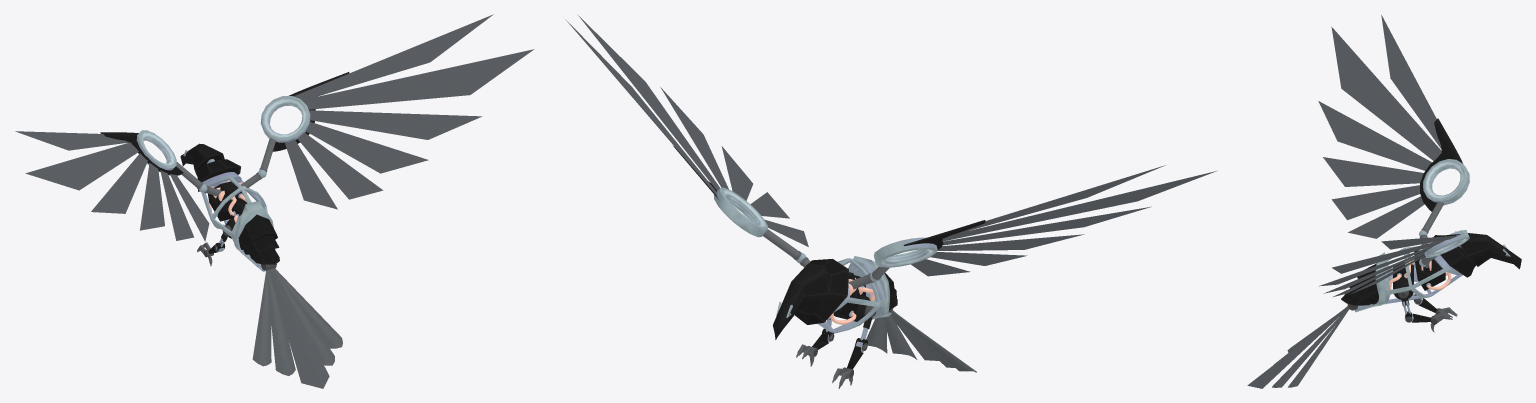
Rendered from eagle.glb.
3 views of the same model, side by side, from view 1: azimuth 30°, elevation 25°; view 2: azimuth 150°, elevation 25°; view 3: azimuth 270°, elevation 25° (orthographic). The views are drawn at different scales.
Parts seen in each view (by area): view 1: Object_2; view 2: Object_2; view 3: Object_2.
Boxes of the visible parts, box(x1,y1,x2,y2) form: Object_2: box(15, 14, 534, 388); Object_2: box(565, 14, 1217, 388); Object_2: box(1247, 15, 1521, 388).
Bounding box in the file's own units: 38.72 × 19.3 × 18.62.
Materials: 1 (1 with a texture image).
